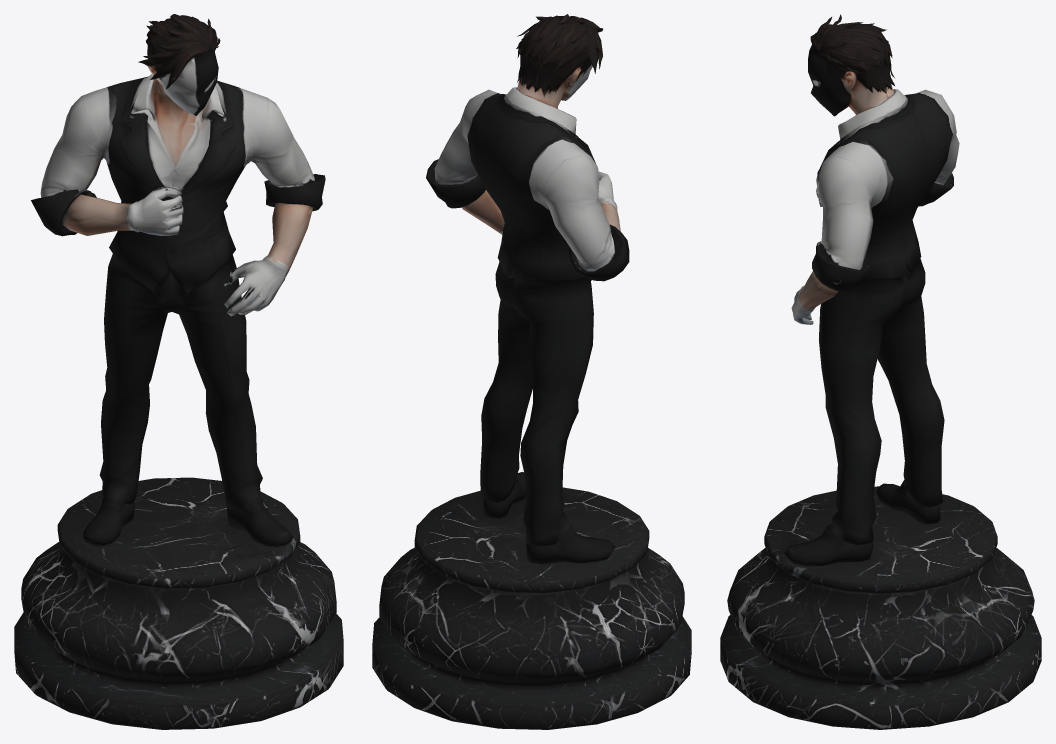
File: Lord_Intellectual_King.glb
The picture shows the model from 3 angles, left to right: view 1: azimuth 30°, elevation 25°; view 2: azimuth 150°, elevation 25°; view 3: azimuth 270°, elevation 25°; orthographic projection. The views are drawn at different scales.
Visible parts, largest first — view 1: tripo_node_527a3146-d9b0-4568-9ac9-60be6d39a4fd; view 2: tripo_node_527a3146-d9b0-4568-9ac9-60be6d39a4fd; view 3: tripo_node_527a3146-d9b0-4568-9ac9-60be6d39a4fd.
Boxes of the visible parts, x1=… form: tripo_node_527a3146-d9b0-4568-9ac9-60be6d39a4fd: x1=14, y1=14, x2=343, y2=729; tripo_node_527a3146-d9b0-4568-9ac9-60be6d39a4fd: x1=372, y1=14, x2=691, y2=729; tripo_node_527a3146-d9b0-4568-9ac9-60be6d39a4fd: x1=720, y1=14, x2=1041, y2=729.
Bounding box in the file's own units: 0.459 × 0.998 × 0.459.
Materials: 1 (1 with a texture image).
